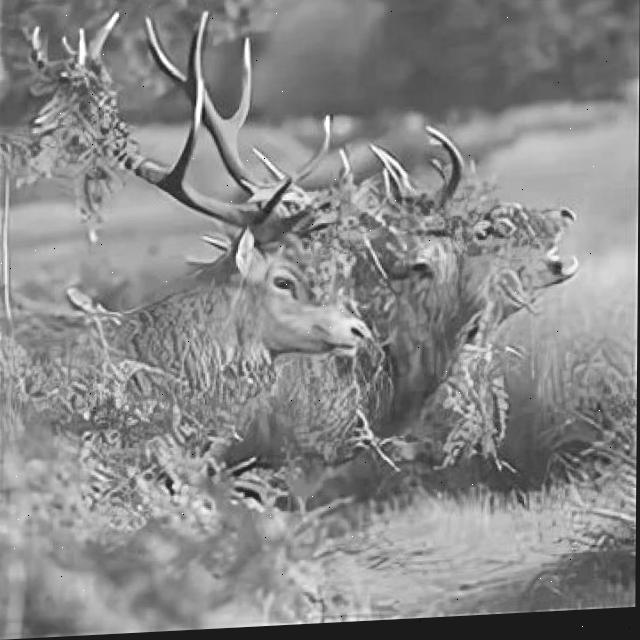Deer: (0, 153, 391, 614)
